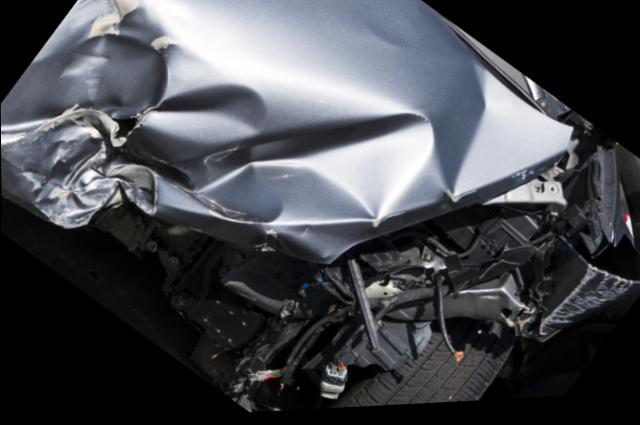dent: (1, 0, 512, 237)
no part: (79, 151, 640, 415)
